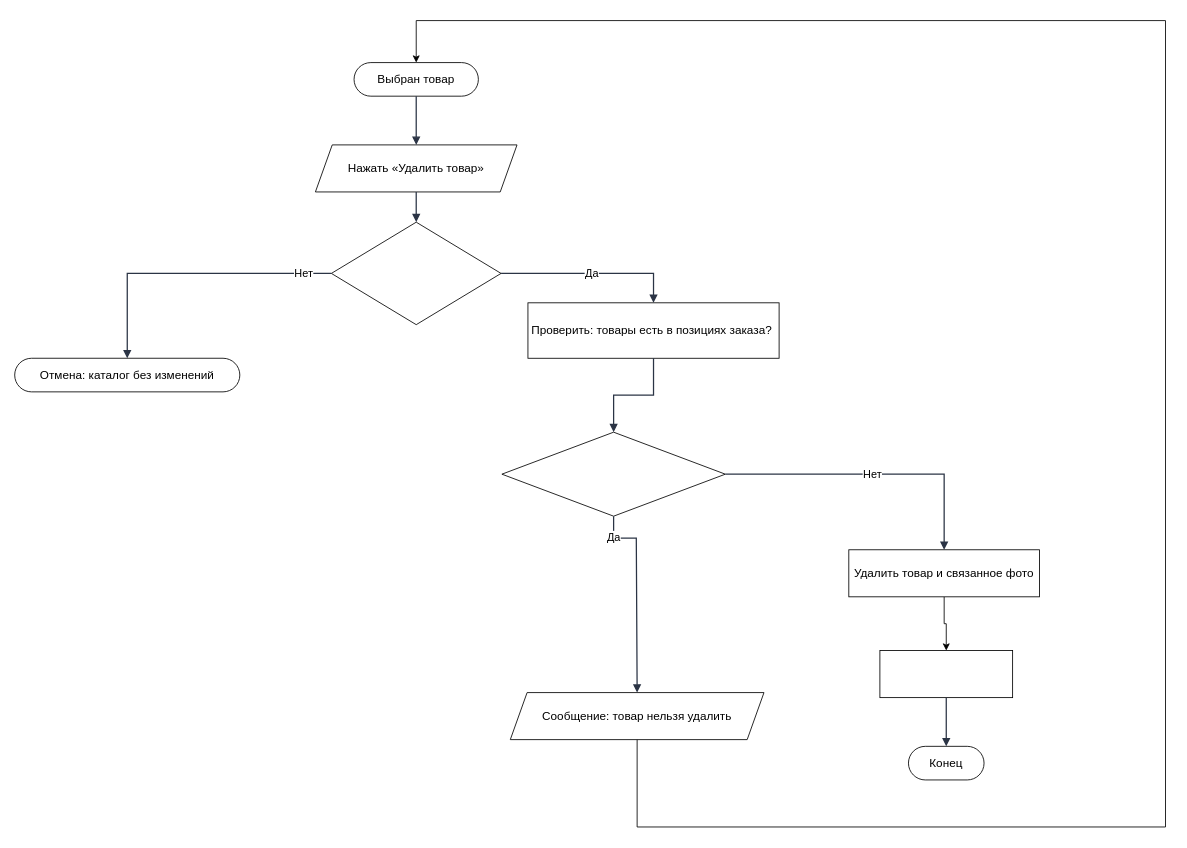
Image size: 1187x848. Some labels were removed from this diagram. The shapes that lost their labels are listed below. From the top down, each one's centre as x and y in pixels, then its label:
At [416,273]: "Удаление подтверждено?".
At [613,473]: "Товар есть в заказе?".
At [946,674]: "Обновить каталог".
